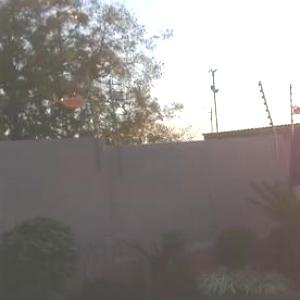follow: (286, 47, 300, 299)
